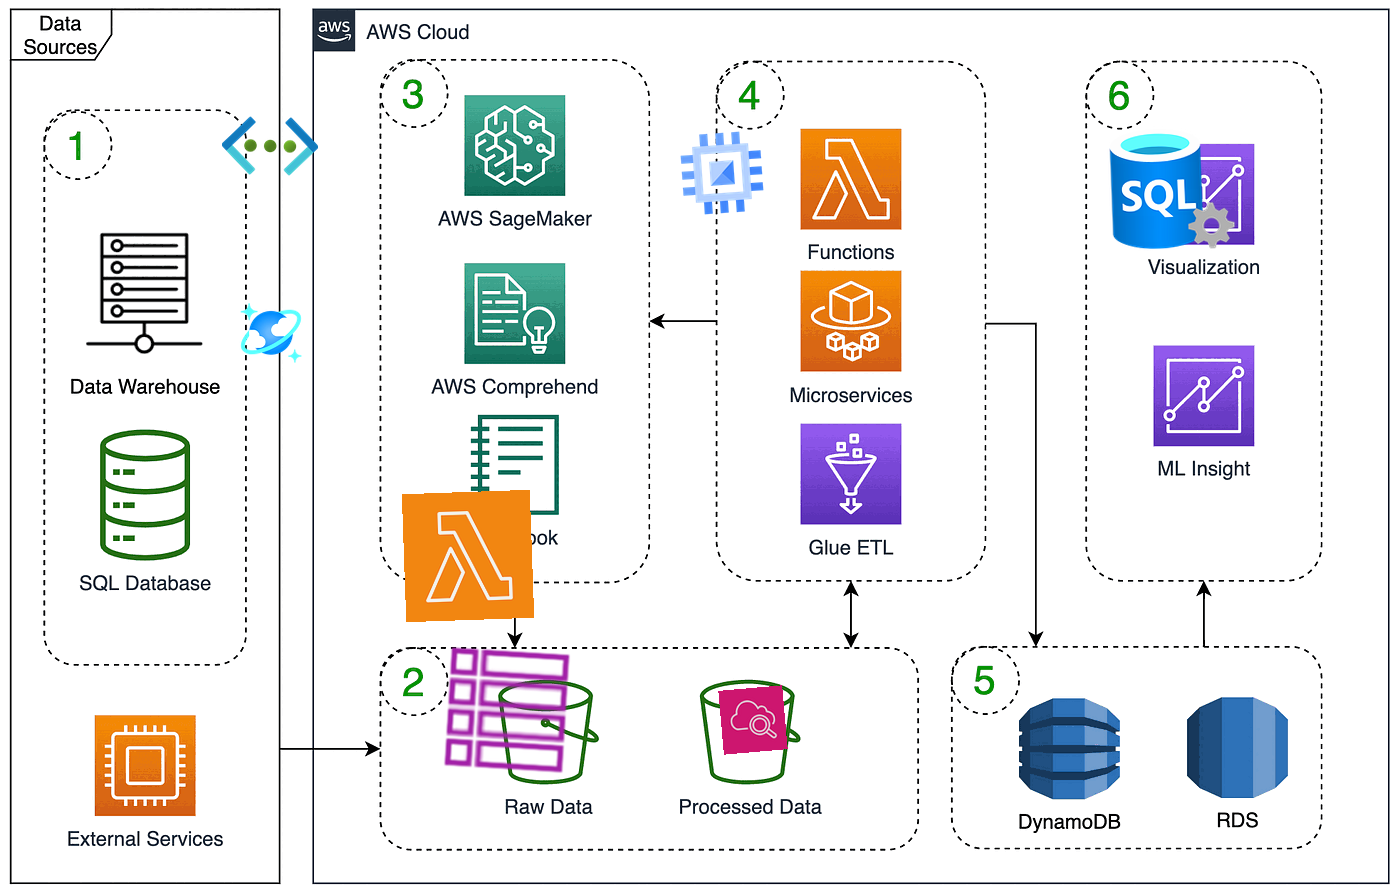aws_amazon_cloudwatch: (718, 685, 788, 755)
aws_dynamodb_table: (439, 642, 576, 778)
aws_lambda: (401, 489, 535, 623)
azure_cosmos_db: (238, 300, 304, 366)
azure_sql_server: (1105, 122, 1239, 256)
azure_virtual_networks: (220, 96, 320, 196)
gcp_compute_engine: (670, 121, 774, 225)
